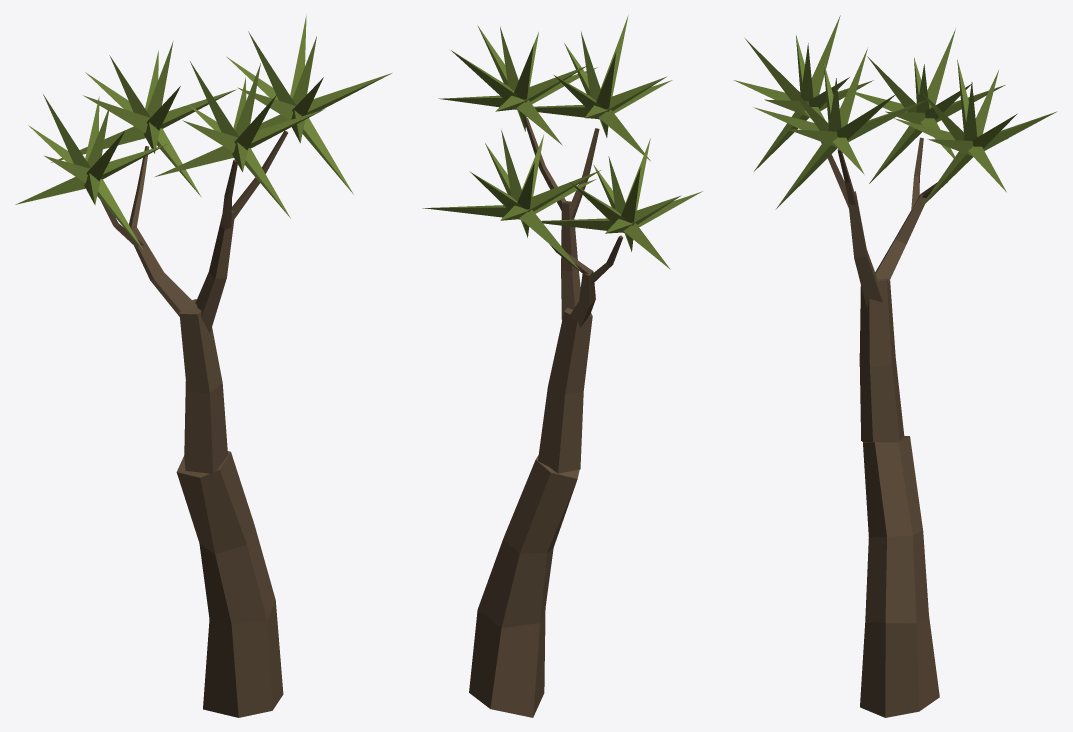
The model's file is Tree_Joshua_B.glb.
The picture shows the model from 3 angles, left to right: view 1: azimuth 30°, elevation 25°; view 2: azimuth 150°, elevation 25°; view 3: azimuth 270°, elevation 25°; orthographic projection. The views are drawn at different scales.
Visible parts, largest first — view 1: Tree_Joshua_B; view 2: Tree_Joshua_B; view 3: Tree_Joshua_B.
Boxes of the visible parts, left/top/right/bottom form: Tree_Joshua_B: left=15, top=14, right=391, bottom=717; Tree_Joshua_B: left=422, top=15, right=702, bottom=717; Tree_Joshua_B: left=733, top=15, right=1057, bottom=717.
Bounding box in the file's own units: 1.68 × 3.79 × 1.7.
